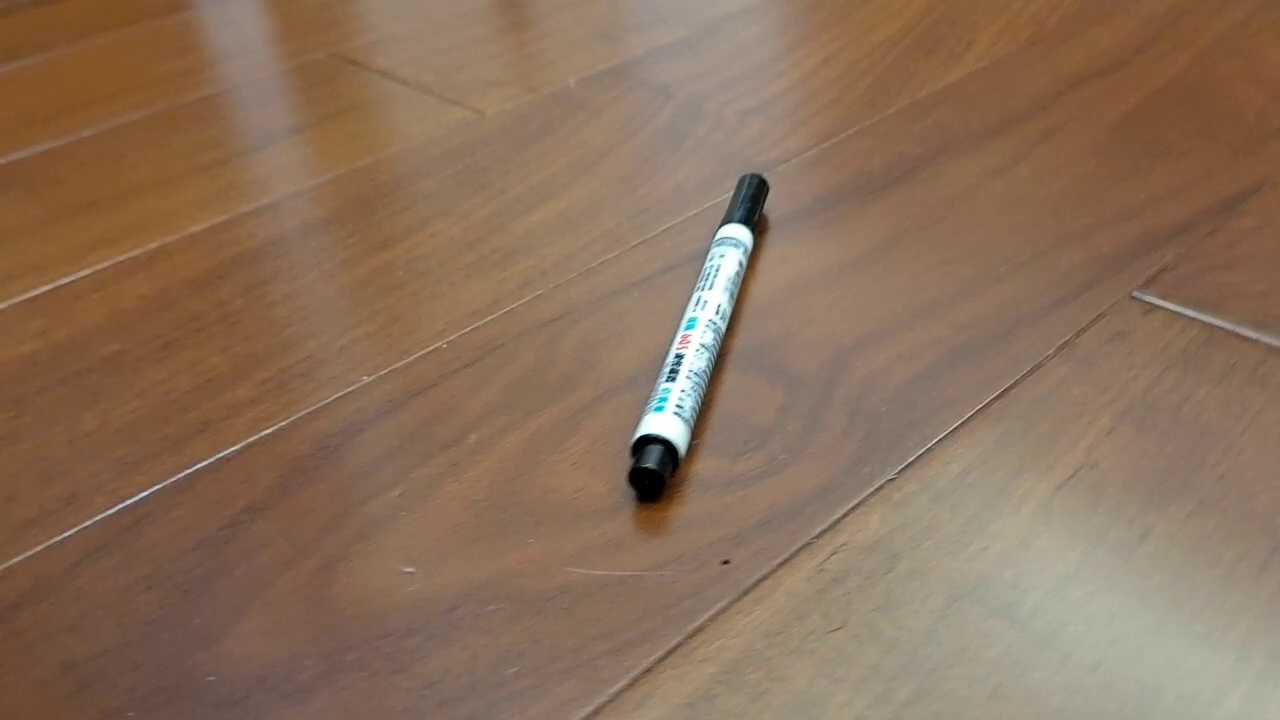pen: (627, 172, 771, 504)
